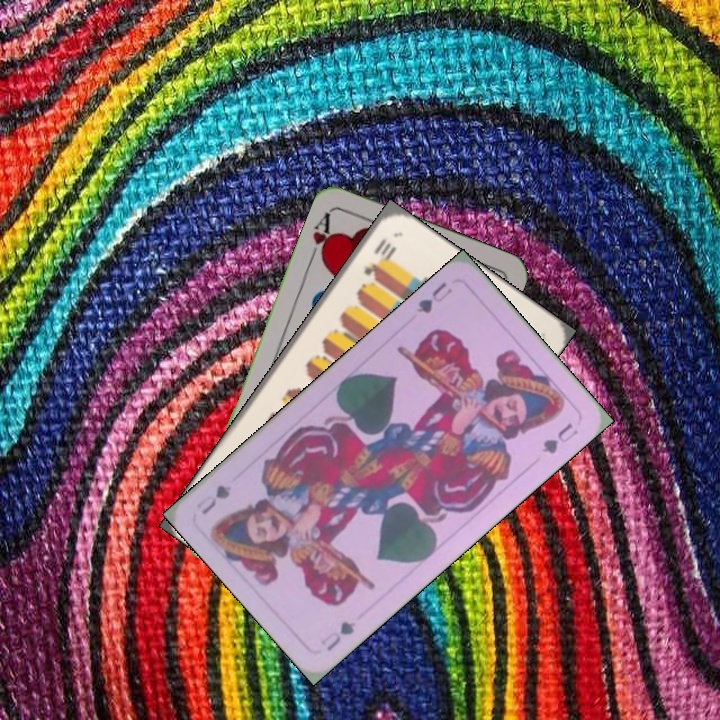E10: (359, 235, 397, 278)
GU: (413, 277, 455, 316), (316, 617, 358, 654)
HA: (306, 207, 336, 266)
